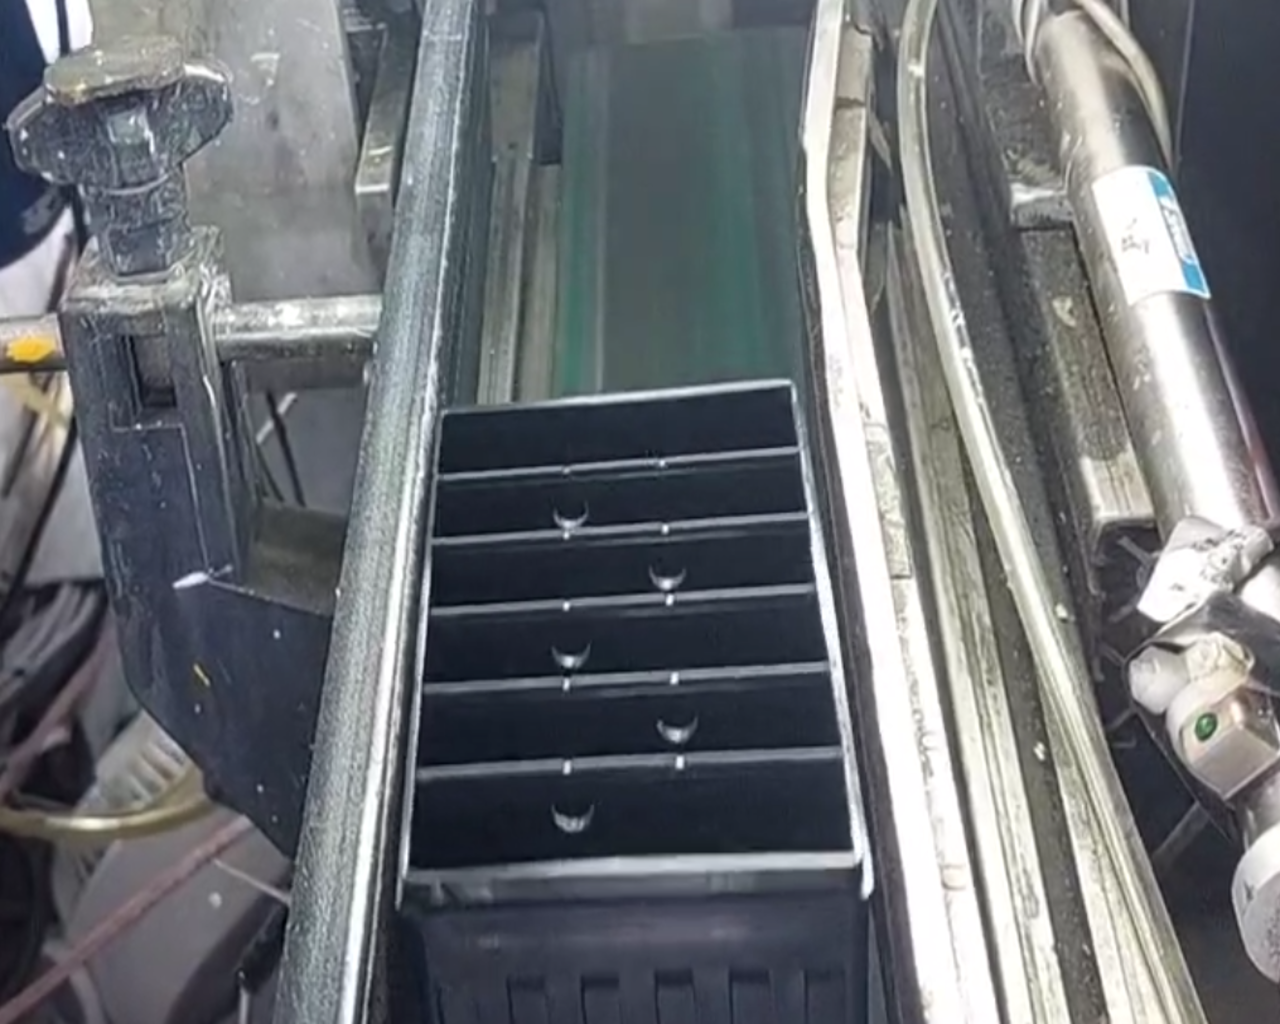box: (381, 362, 895, 926)
round: (530, 771, 607, 839), (533, 613, 607, 681), (625, 535, 699, 600), (635, 684, 711, 748), (538, 480, 599, 537)
